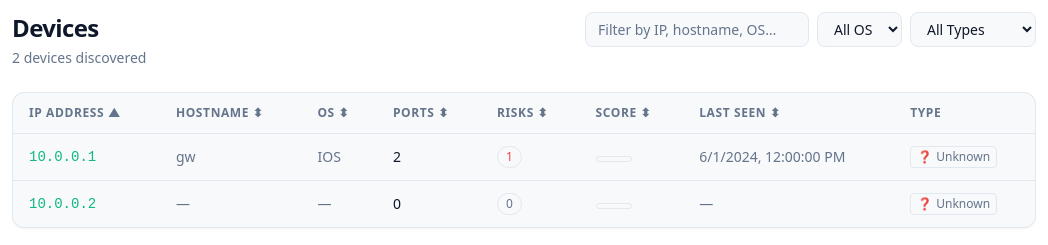
Test: DevicesPage › shows no match row when filter yields nothing
Expected: the link "10.0.0.1" is shown, [29,149,96,165]
Type "zzznomatch" into the search field. click: [697, 30]
box: [585,12,809,47]
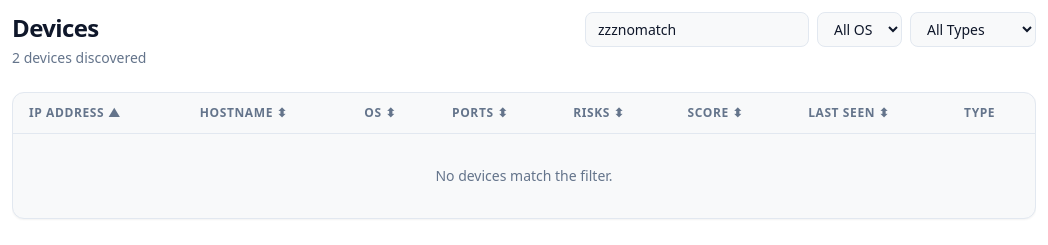
Expected: the text "No devices match the filter." is shown, [13,134,1035,218]
